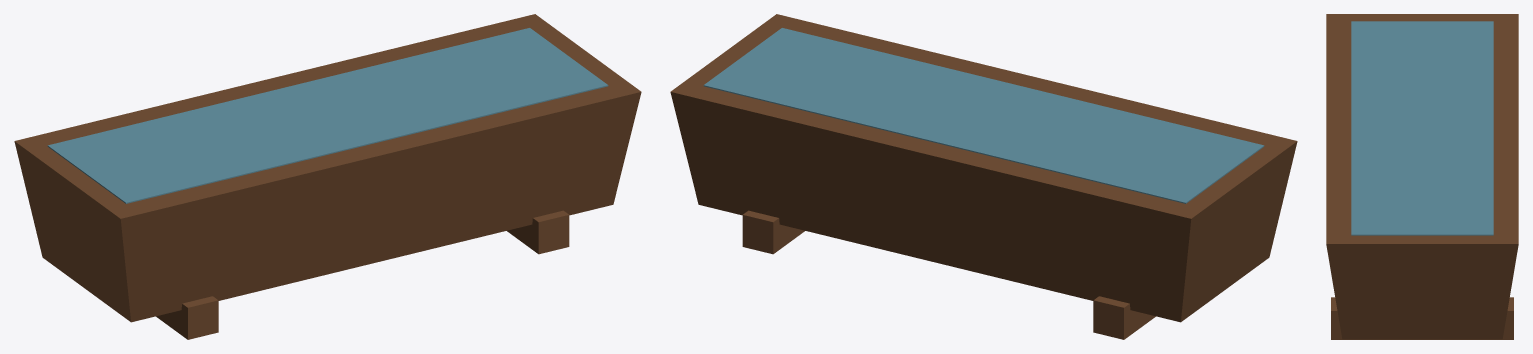
Rendered from SM_Trough.fbx.
3 renders of one model, left to right at view 1: azimuth 30°, elevation 25°; view 2: azimuth 150°, elevation 25°; view 3: azimuth 270°, elevation 25°, orthographic. The views are drawn at different scales.
Parts seen in each view (by area): view 1: Trough; view 2: Trough; view 3: Trough.
Part boxes in pixels (box(x1,y1,x2,y2)): Trough: box(14, 14, 641, 339); Trough: box(670, 14, 1297, 339); Trough: box(1326, 14, 1518, 339).
Bounding box in the file's own units: 238 × 84 × 61.5.
